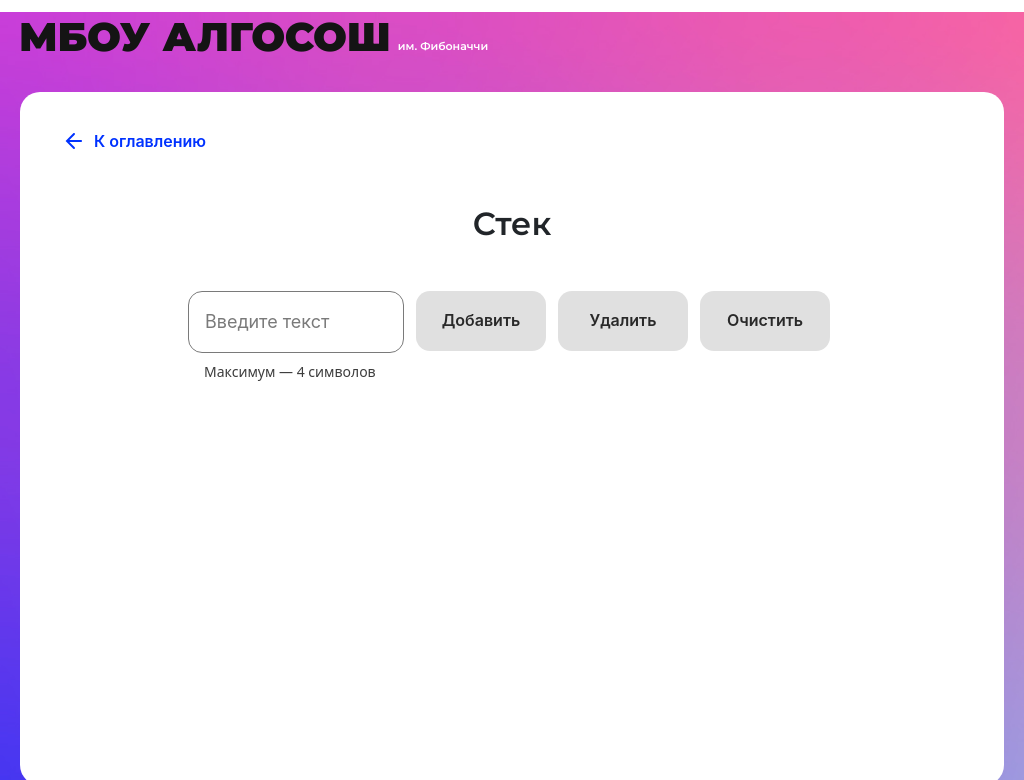
Test: stack page works correctly › add button is disabled when input is incorrect or empty
This screenshot has width=1024, height=780.
Expected: the button "Добавить" is disabled, [416,291,546,351]
In the field with placeholder "Введите текст": (296, 322) [188,291,404,353], type "5"
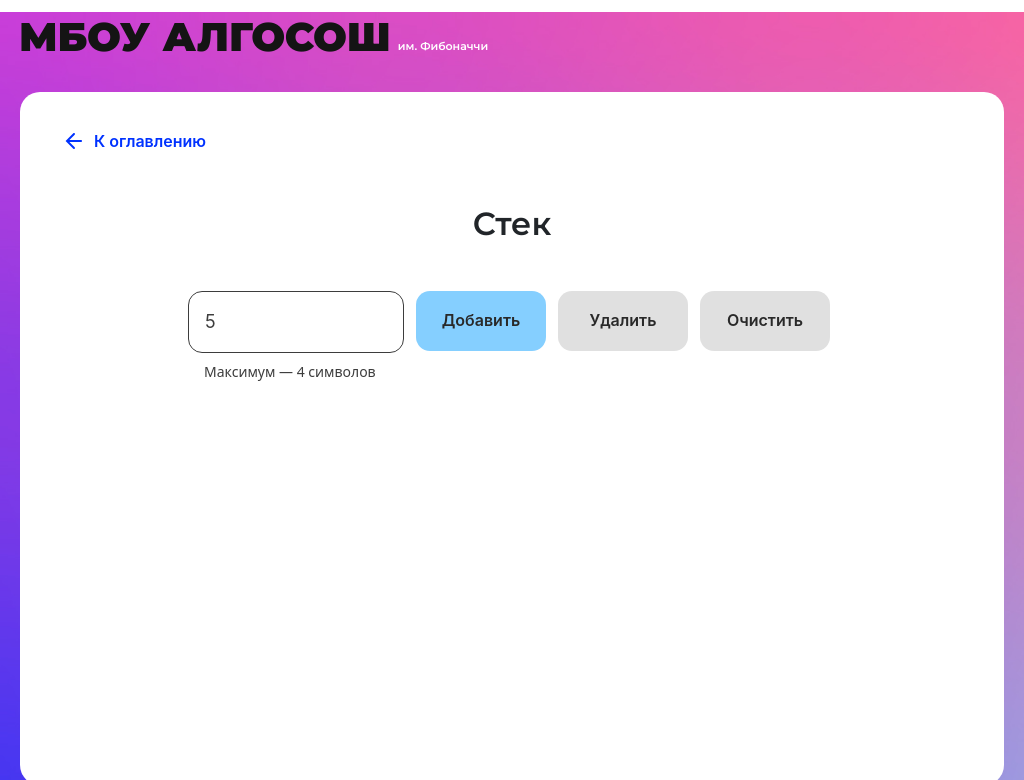
Expected: the text "Добавить" is enabled
Clear the field: (296, 322) [188,291,404,353]
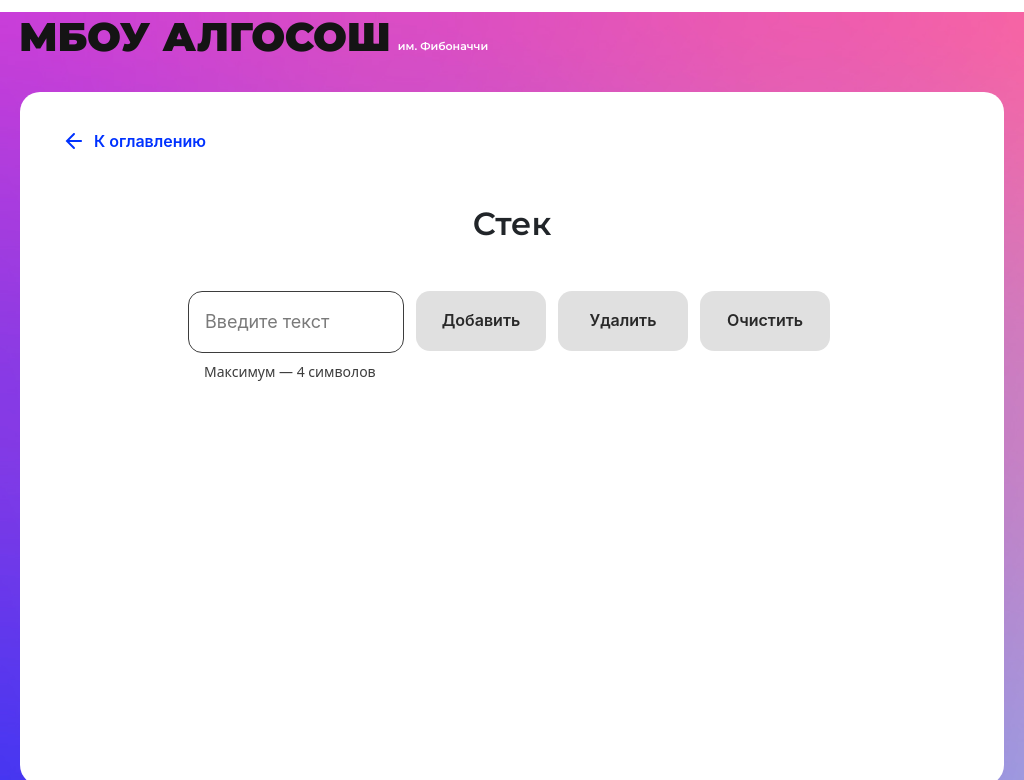
Now the button "Добавить" is disabled, box [416,291,546,351]
